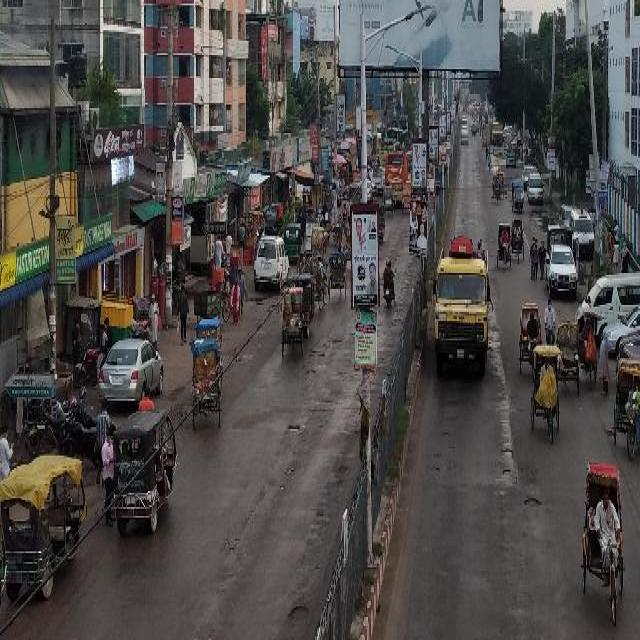ambulance: (569, 207, 593, 252)
auto rickshaw: (1, 455, 83, 595), (114, 409, 176, 529), (289, 273, 313, 332), (512, 178, 524, 210), (379, 202, 383, 239), (470, 121, 476, 134)
bicycle: (12, 420, 54, 454), (486, 156, 490, 168), (485, 150, 487, 158)
bus: (385, 148, 411, 198), (378, 138, 399, 163)
car: (100, 336, 162, 400), (601, 306, 639, 352), (342, 176, 371, 198), (460, 133, 468, 144), (460, 112, 466, 121), (460, 124, 466, 131)
motorbike: (60, 414, 94, 456), (74, 344, 102, 381), (383, 258, 395, 304)
pickup: (546, 224, 576, 299), (505, 149, 515, 167)
rickshaw: (580, 461, 624, 624), (530, 344, 558, 441), (191, 339, 221, 429), (613, 358, 639, 459), (576, 308, 596, 389), (518, 300, 540, 372), (558, 322, 578, 392), (282, 290, 302, 350), (307, 260, 327, 309), (329, 255, 345, 296), (496, 220, 509, 268), (512, 217, 524, 263), (197, 316, 220, 335), (311, 225, 325, 255), (401, 181, 411, 211), (491, 173, 501, 201), (383, 186, 393, 213), (496, 169, 504, 194)
three wheelers -CNG-: (284, 222, 300, 255)
truck: (434, 235, 486, 377), (488, 118, 502, 144)
van: (583, 272, 639, 334), (253, 231, 287, 288), (526, 171, 542, 200), (559, 202, 571, 225), (523, 164, 533, 185)
